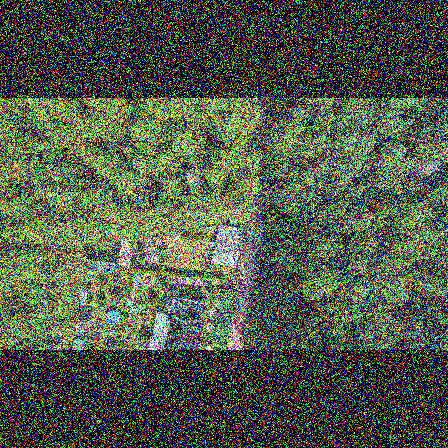Dead: (415, 154, 447, 179), (178, 165, 206, 191)
